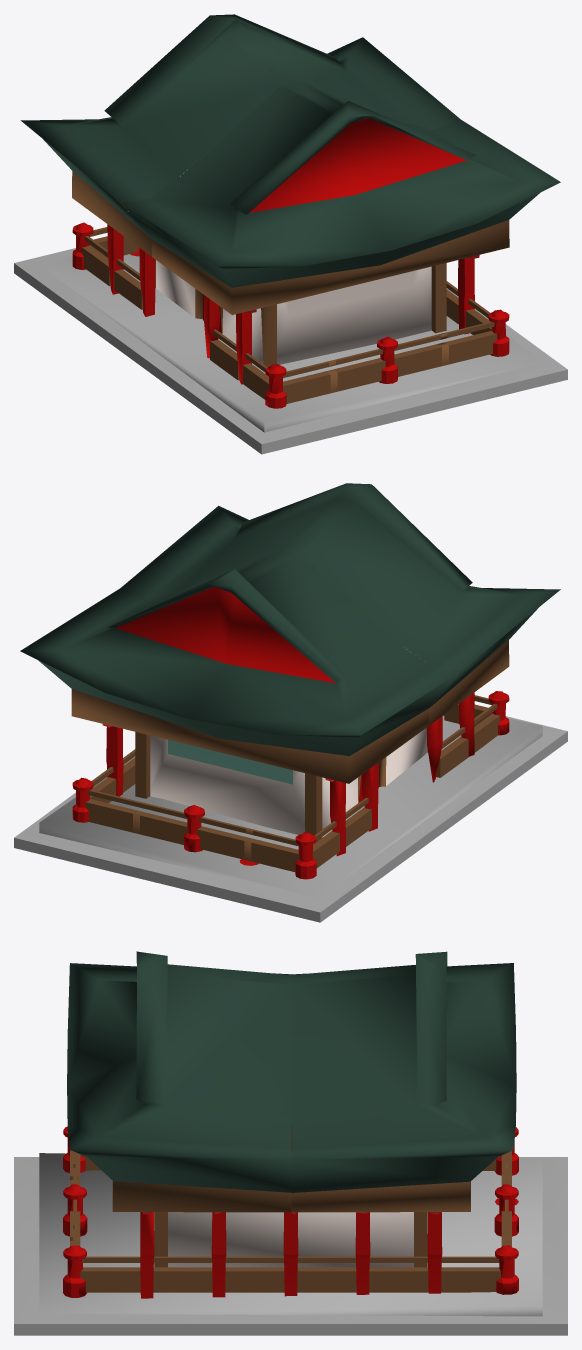
The model's file is Chinese Church.fbx.
3 renders of one model, top to bottom at view 1: azimuth 30°, elevation 25°; view 2: azimuth 150°, elevation 25°; view 3: azimuth 270°, elevation 25°, orthographic. The views are drawn at different scales.
Parts seen in each view (by area): view 1: Garden_Shrine, Garden_Shrine.001; view 2: Garden_Shrine, Garden_Shrine.001; view 3: Garden_Shrine, Garden_Shrine.001.
Boxes of the visible parts, x1,y1,x2,y2 form: Garden_Shrine: (14, 14, 567, 454); Garden_Shrine.001: (72, 222, 509, 408); Garden_Shrine: (14, 483, 567, 922); Garden_Shrine.001: (72, 691, 509, 879); Garden_Shrine: (14, 951, 567, 1335); Garden_Shrine.001: (63, 1126, 518, 1298).
Bounding box in the file's own units: 123 × 91.39 × 154.
